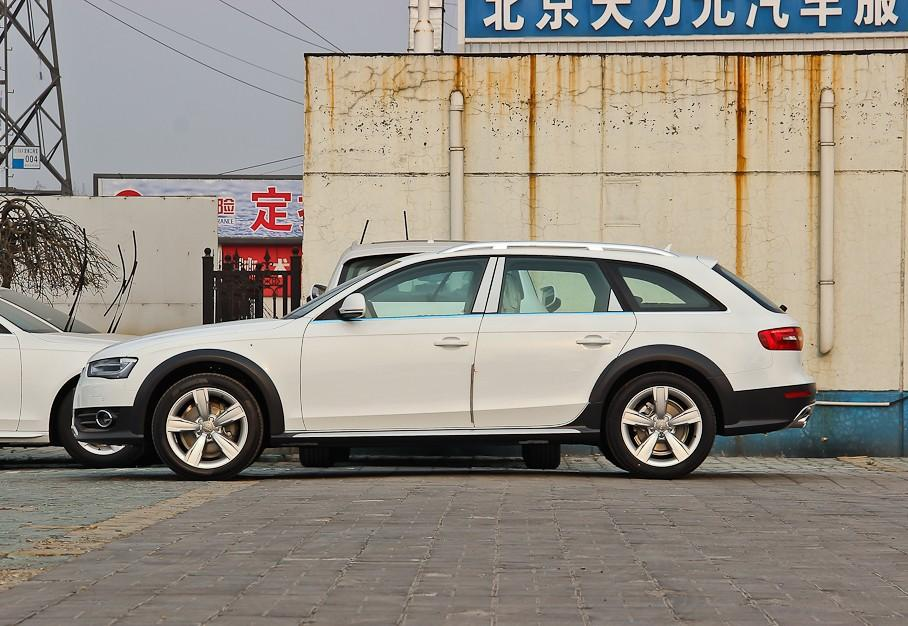Wagon: (69, 240, 818, 480)
